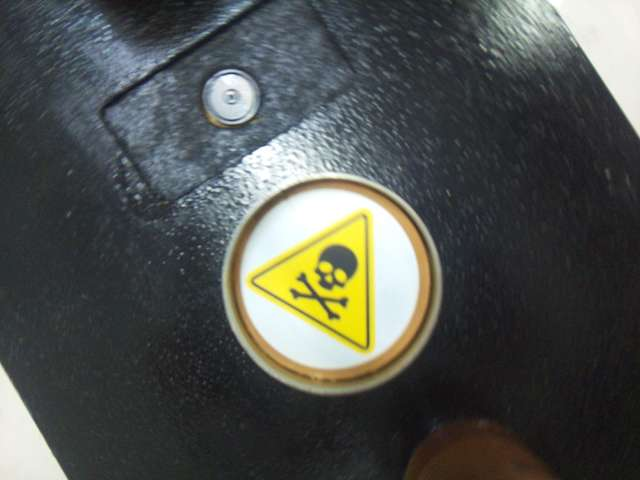toxic_fluid: (243, 191, 418, 368)
